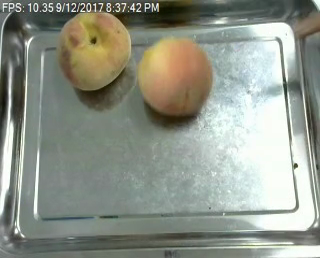Peach: (56, 7, 132, 92), (138, 36, 213, 116)
